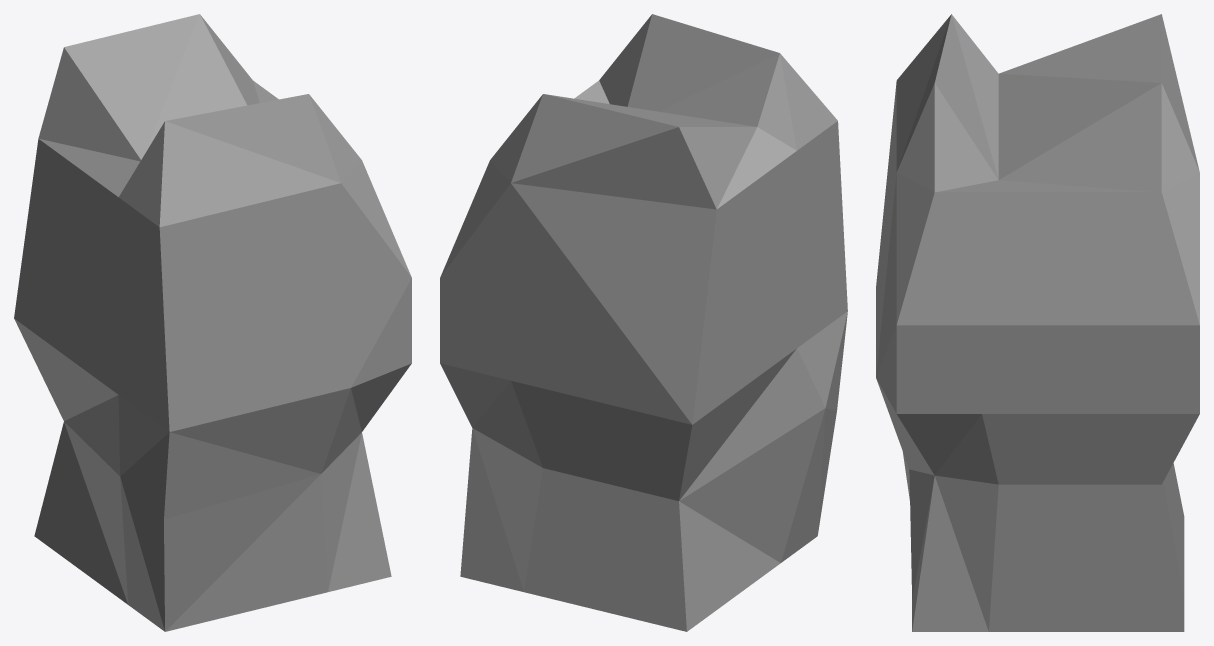
The model's file is Isl_14_Stone_2.fbx.
The picture shows the model from 3 angles, left to right: view 1: azimuth 30°, elevation 25°; view 2: azimuth 150°, elevation 25°; view 3: azimuth 270°, elevation 25°; orthographic projection. The views are drawn at different scales.
Visible parts, largest first — view 1: Isl_14_Stone_2; view 2: Isl_14_Stone_2; view 3: Isl_14_Stone_2.
Boxes of the visible parts, box(x1,y1,x2,y2) form: Isl_14_Stone_2: box(14, 14, 411, 631); Isl_14_Stone_2: box(440, 14, 847, 631); Isl_14_Stone_2: box(876, 14, 1199, 631).
Bounding box in the file's own units: 321 × 325 × 567.
1 material, 1 textured.
